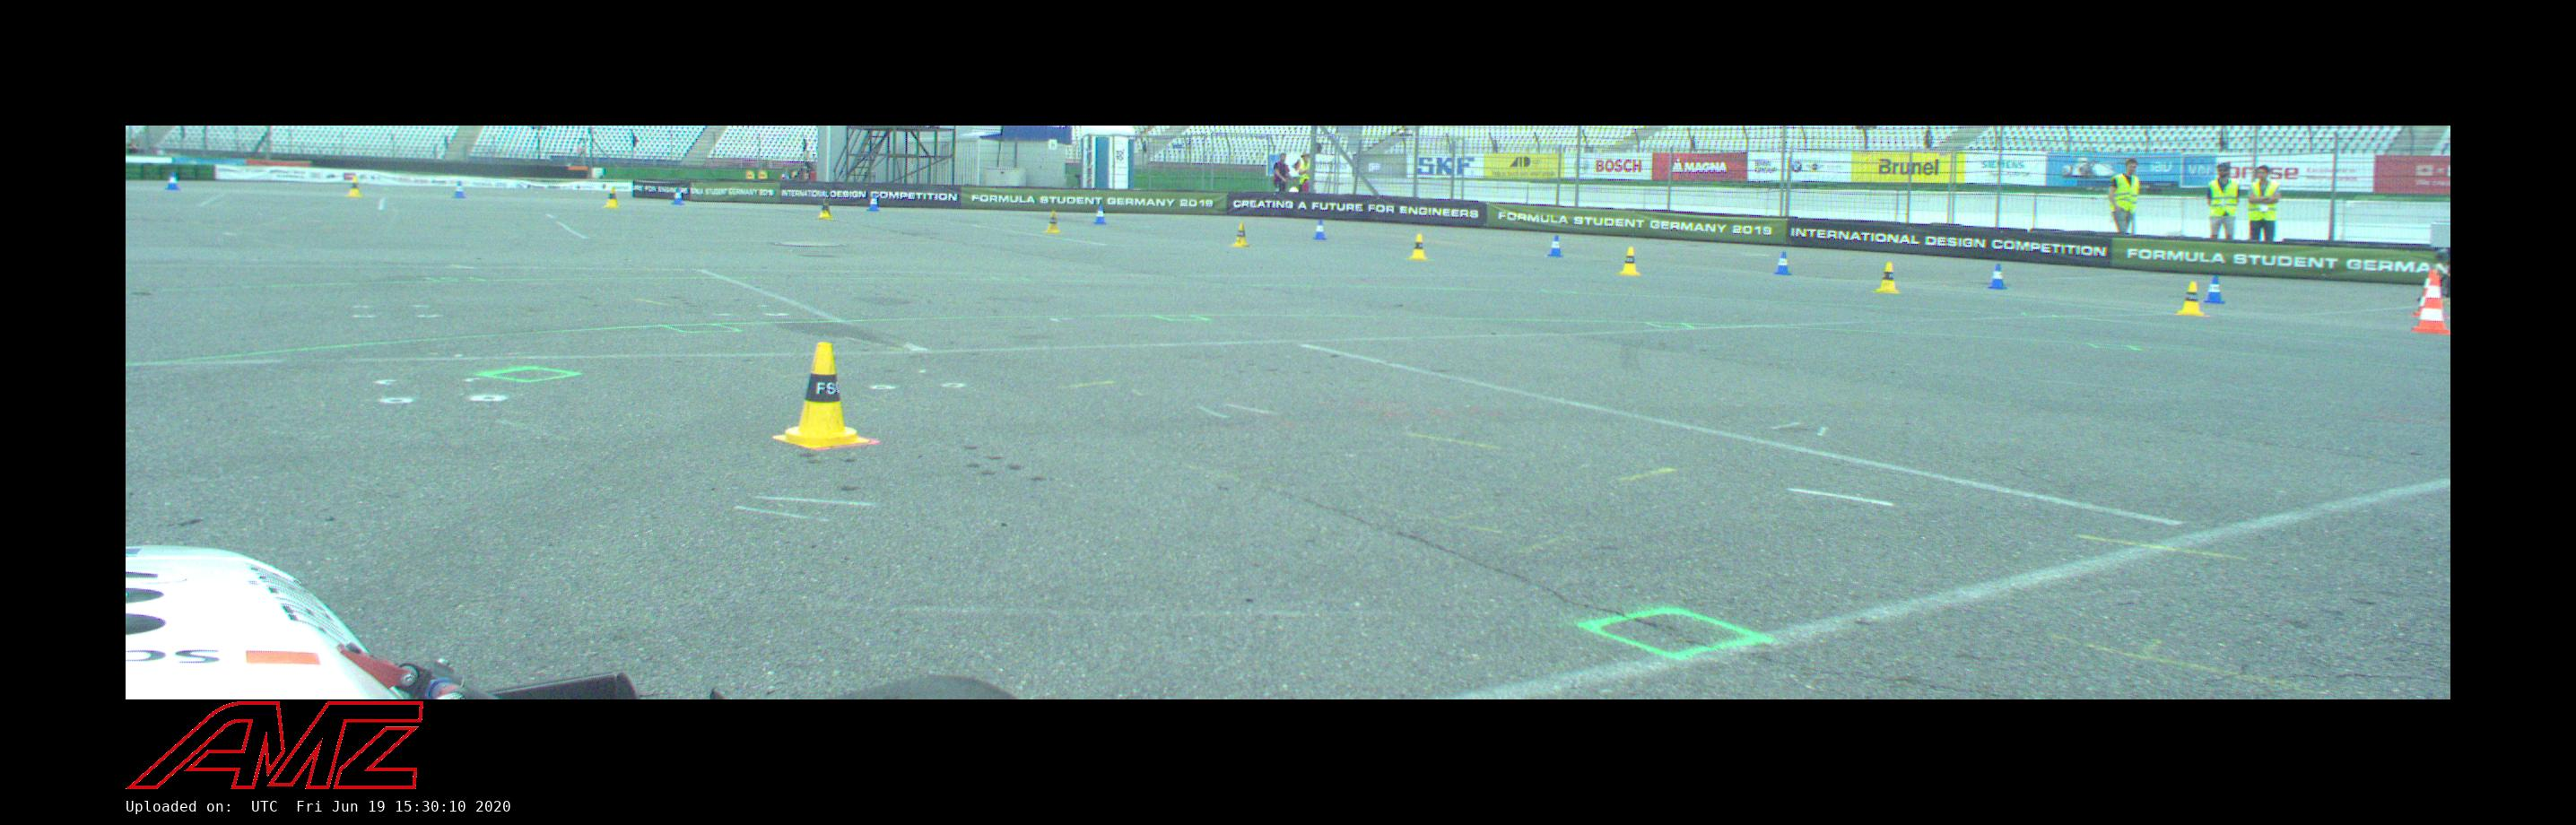blue_cone: (2203, 276, 2228, 304), (1773, 251, 1792, 276), (1988, 265, 2008, 289), (1546, 235, 1566, 258), (164, 173, 181, 191), (1313, 220, 1327, 240), (452, 181, 467, 200), (1091, 207, 1107, 224), (866, 194, 881, 210), (670, 189, 685, 205)
large_orange_cone: (2413, 276, 2451, 335)
yellow_cone: (774, 342, 871, 449), (2173, 281, 2206, 316), (1875, 263, 1901, 294), (1618, 248, 1643, 276), (1408, 233, 1429, 261), (1230, 222, 1250, 248), (603, 186, 623, 209), (815, 197, 835, 220), (1043, 210, 1061, 233), (347, 176, 363, 196)
